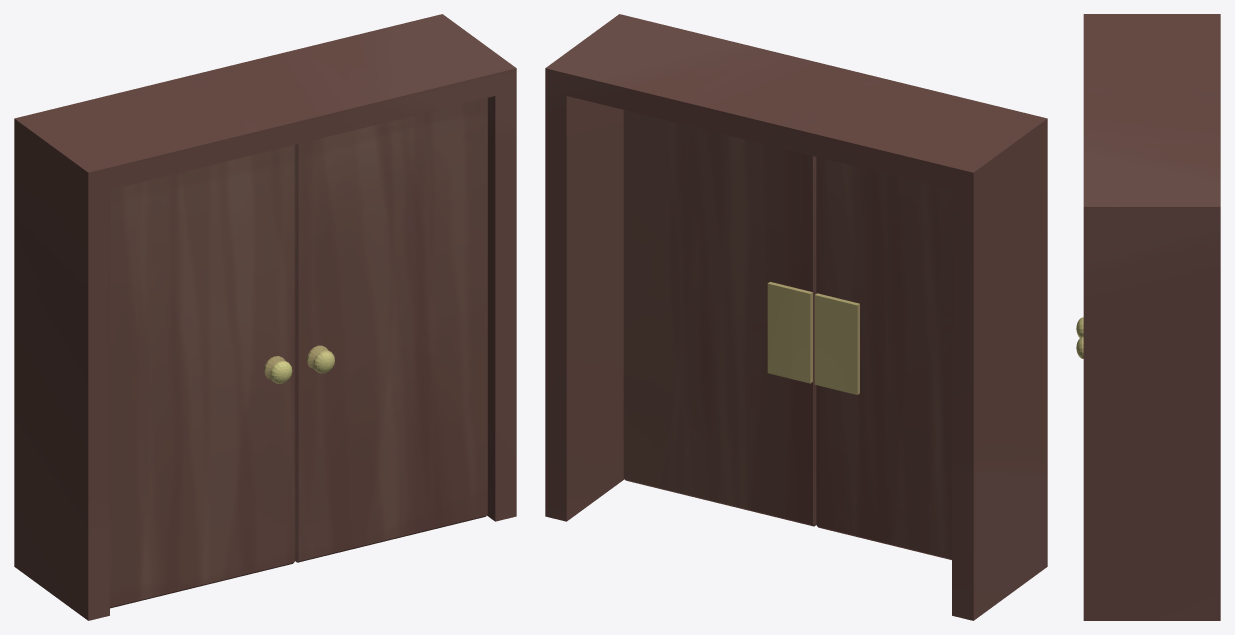
The model's file is DarkWoodDoorMediumWoodenDouble1.fbx.
3 renders of one model, left to right at view 1: azimuth 30°, elevation 25°; view 2: azimuth 150°, elevation 25°; view 3: azimuth 270°, elevation 25°, orthographic. The views are drawn at different scales.
Parts seen in each view (by area): view 1: Frame, Right, Left; view 2: Frame, Right, Left; view 3: Frame.
Part boxes in pixels (x1,y1,x2,y2): Frame: (14,14,516,620); Right: (295,98,487,562); Left: (110,145,295,608); Frame: (545,14,1047,620); Right: (623,110,816,526); Left: (814,157,951,559); Frame: (1083,14,1220,620).
Size of the model in its own units: 200 by 200 by 63.15.
